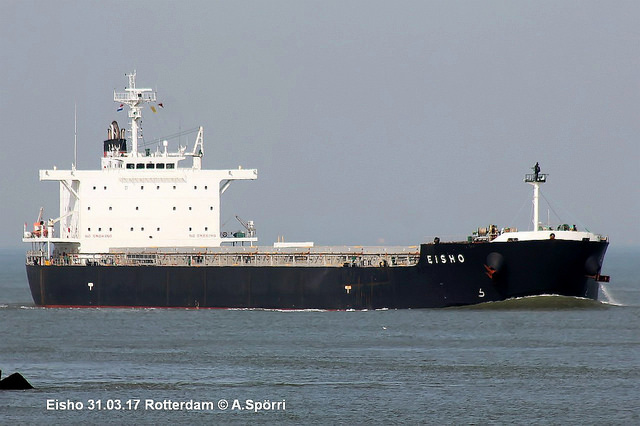bulk carrier: (22, 74, 616, 305)
